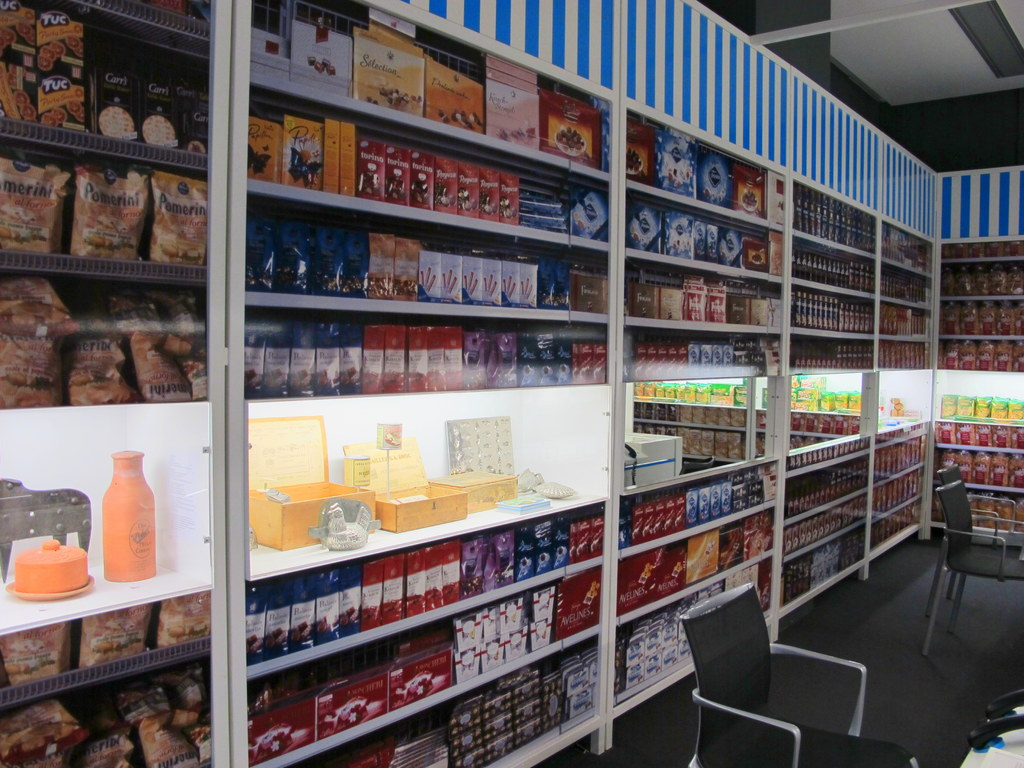Chair: (676, 579, 912, 767), (916, 480, 1023, 655), (925, 459, 1023, 618)
